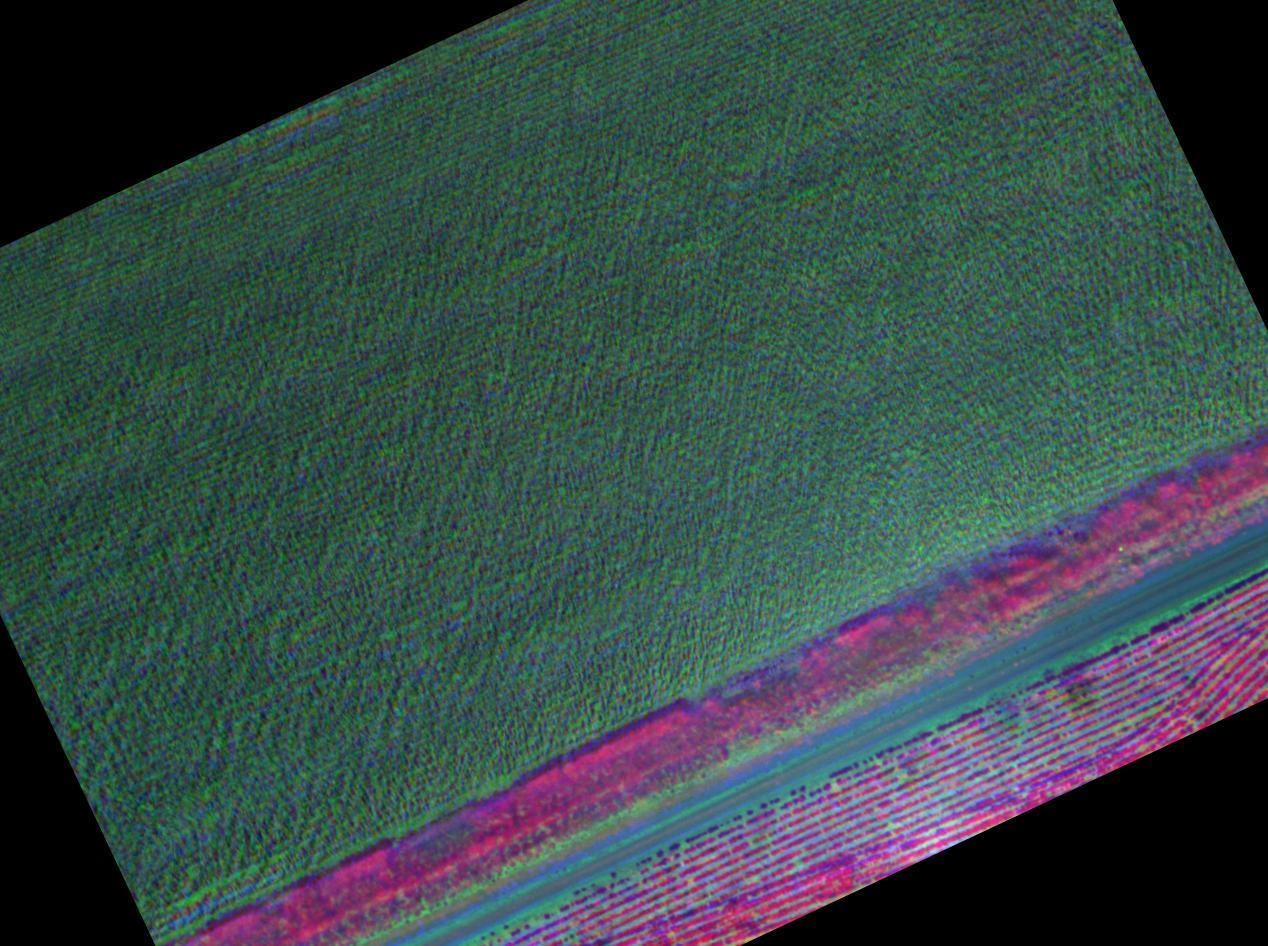dc: (1053, 655, 1133, 733)
